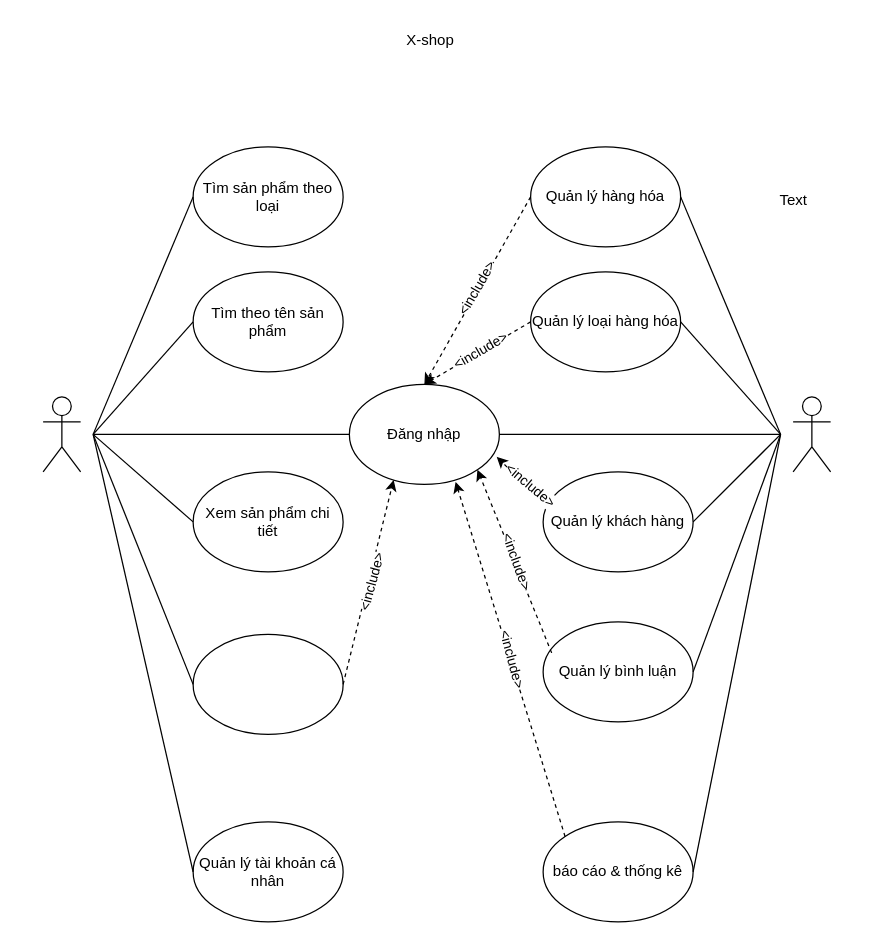
Some shapes in this 875 by 944 pixel diagram are drawn without their labels. The shapes that lost their labels are listed below. From the top down, each one's box as (x1, y1, x2, y2) in pixels, then its label:
(42, 396, 81, 472): Người dùng
(792, 396, 831, 472): Quản trị viên
(192, 633, 343, 734): Gửi bình luận
